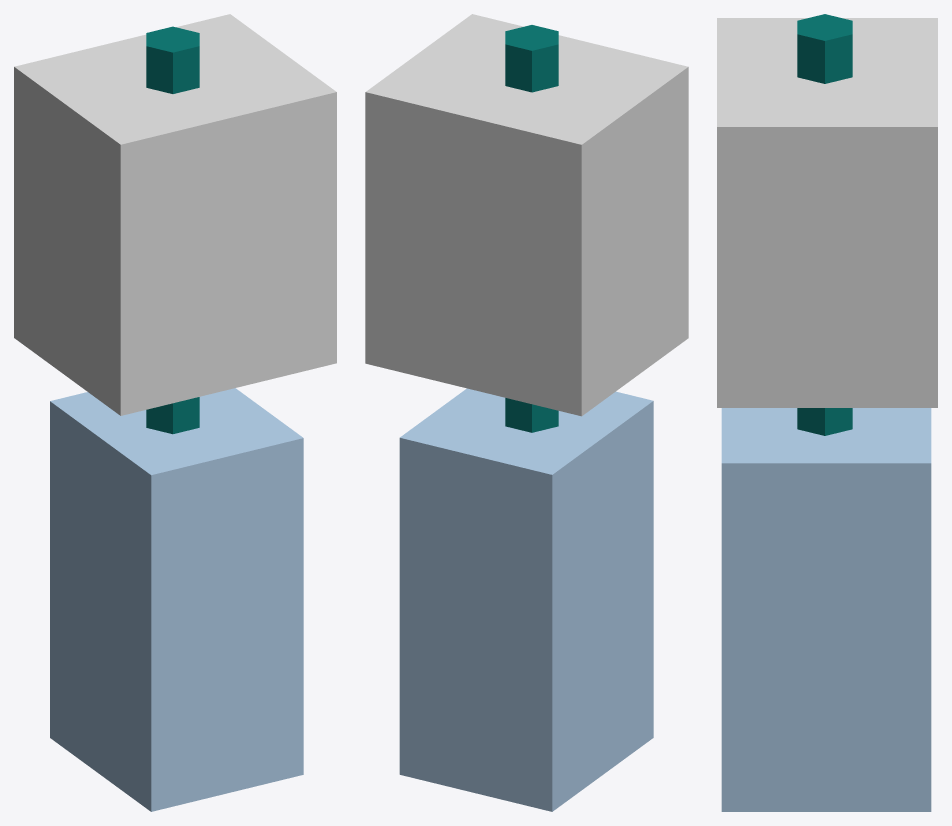
File: lamp_green.fbx
3 renders of one model, left to right at view 1: azimuth 30°, elevation 25°; view 2: azimuth 150°, elevation 25°; view 3: azimuth 270°, elevation 25°, orthographic. The views are drawn at different scales.
Visible parts, largest first — view 1: Cube.110, Cube.109, Cylinder.001; view 2: Cube.110, Cube.109, Cylinder.001; view 3: Cube.109, Cube.110, Cylinder.001.
Boxes of the visible parts, <box> form: Cube.110: <box>14,14,336,415</box>; Cube.109: <box>50,388,303,811</box>; Cylinder.001: <box>146,26,199,434</box>; Cube.110: <box>365,14,688,416</box>; Cube.109: <box>399,388,653,811</box>; Cylinder.001: <box>505,25,558,432</box>; Cube.109: <box>721,408,931,811</box>; Cube.110: <box>717,18,937,407</box>; Cylinder.001: <box>797,14,852,435</box>.
Size of the model in its own units: 11.55 by 36.68 by 9.87.
